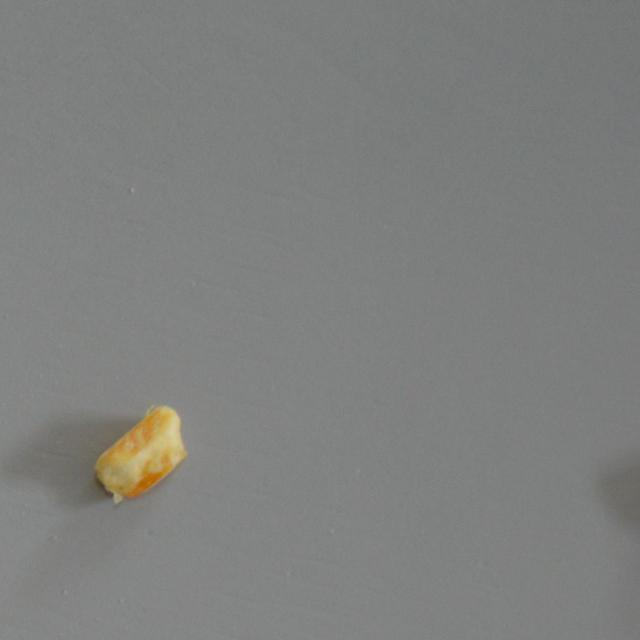punto_negro: (90, 398, 189, 507)
